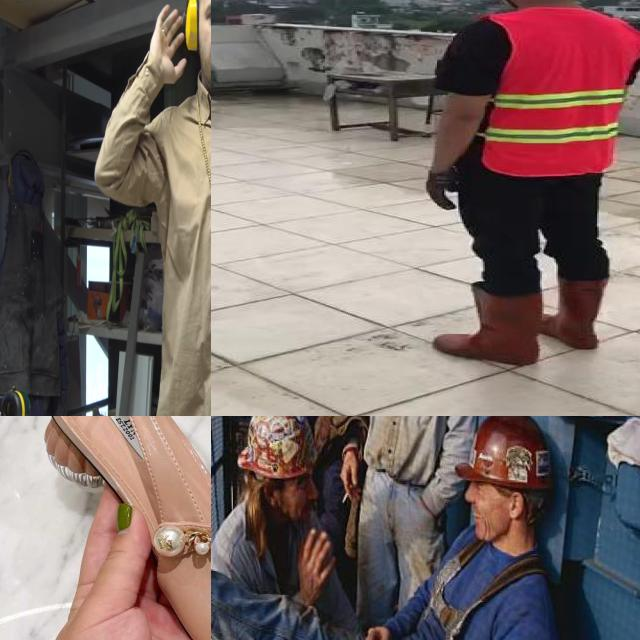Ear-protection: (183, 0, 211, 104)
Harness: (425, 541, 547, 640)
Sandals: (16, 416, 211, 640)
boots: (432, 285, 542, 370), (546, 279, 612, 348)
hand_glove: (426, 169, 464, 212)
person: (414, 0, 640, 366)
vest: (479, 9, 640, 177)
